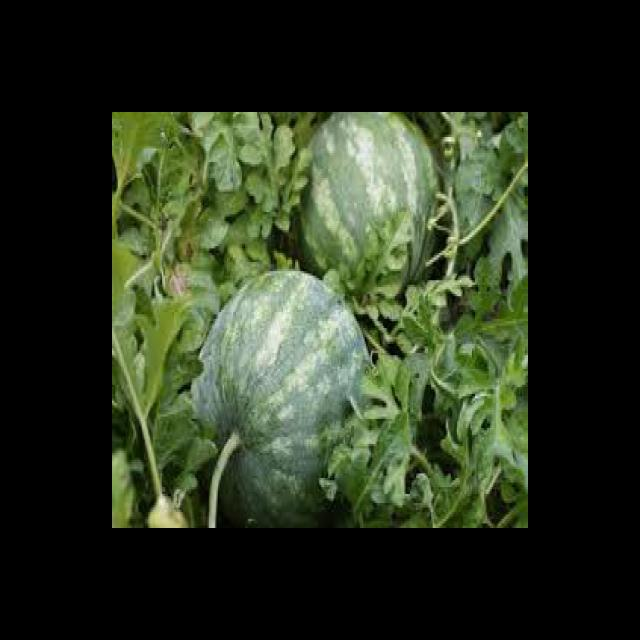watermelon: (190, 270, 373, 528), (288, 112, 440, 299)
